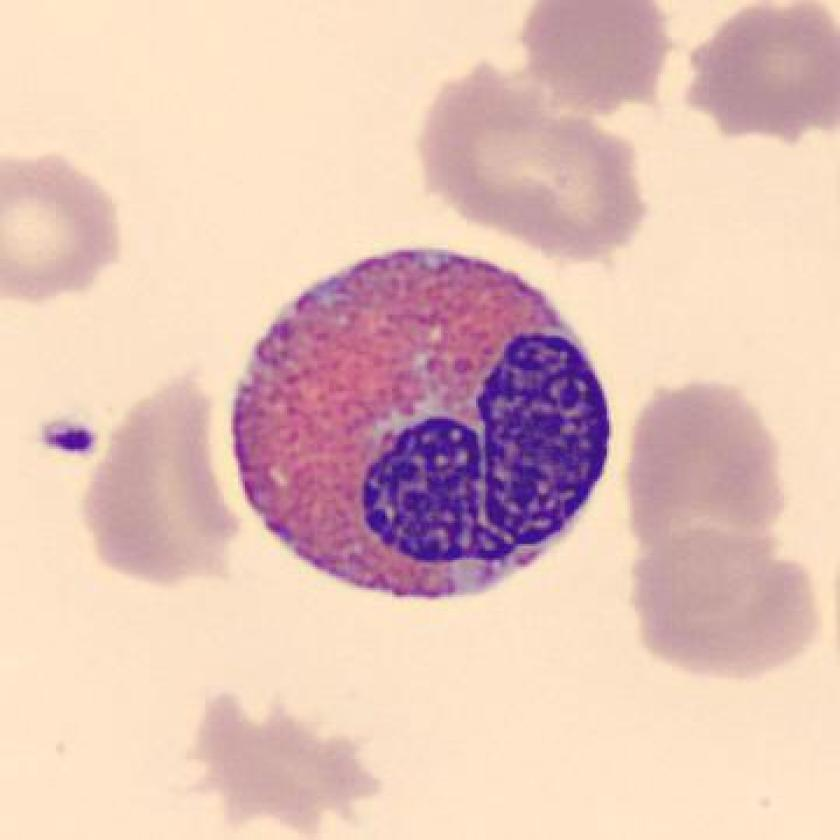eosinophil: (218, 233, 624, 608)
